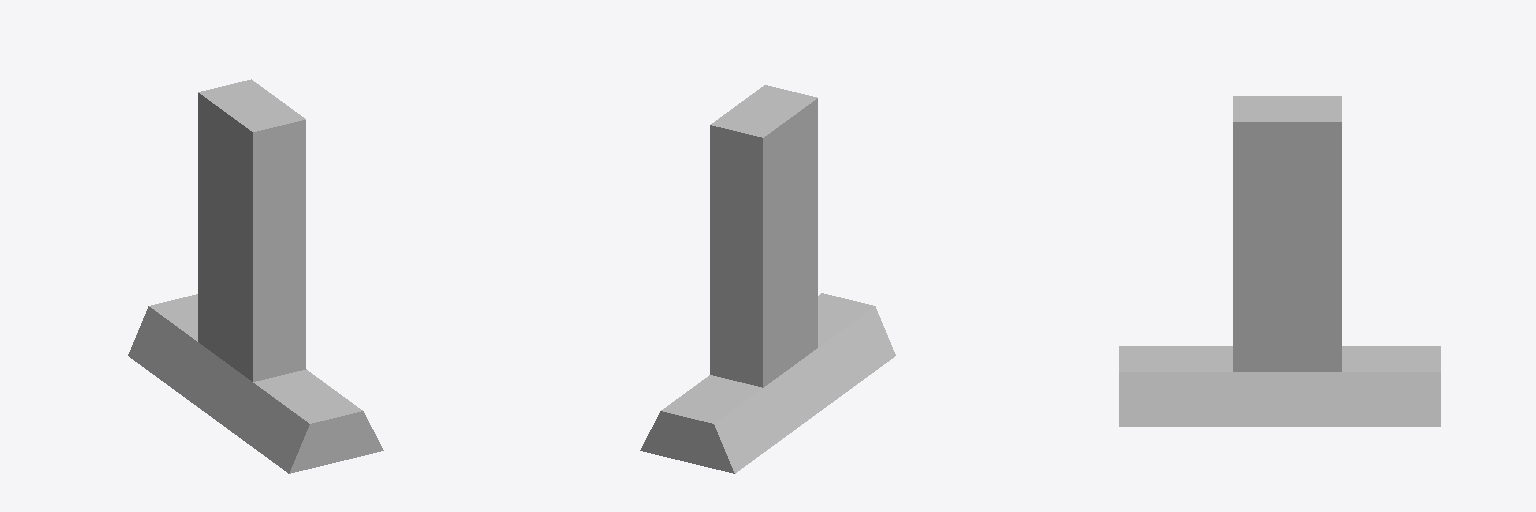
Rendered from graveStone1.obj.
3 views of the same model, side by side, from view 1: azimuth 30°, elevation 25°; view 2: azimuth 150°, elevation 25°; view 3: azimuth 270°, elevation 25° (orthographic).
Visible parts, largest first — view 1: Cube_Cube.001; view 2: Cube_Cube.001; view 3: Cube_Cube.001.
Boxes of the visible parts, x1=… form: Cube_Cube.001: x1=128, y1=79, x2=383, y2=473; Cube_Cube.001: x1=640, y1=85, x2=895, y2=473; Cube_Cube.001: x1=1119, y1=96, x2=1440, y2=426.
Size of the model in its own units: 2 by 5.93 by 5.88.